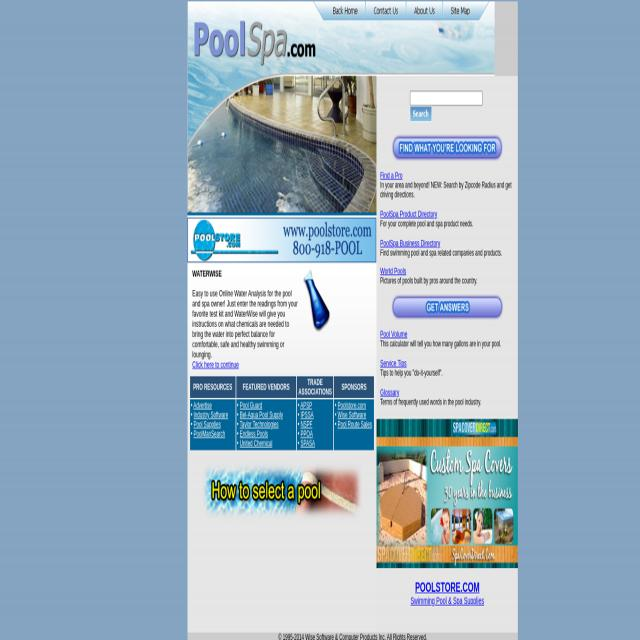button: (186, 75, 376, 216), (200, 462, 362, 520), (187, 216, 376, 261), (391, 132, 503, 161), (391, 292, 504, 319), (302, 268, 330, 331), (324, 2, 366, 20), (366, 2, 405, 19), (409, 105, 431, 120)
field: (409, 90, 482, 105)
